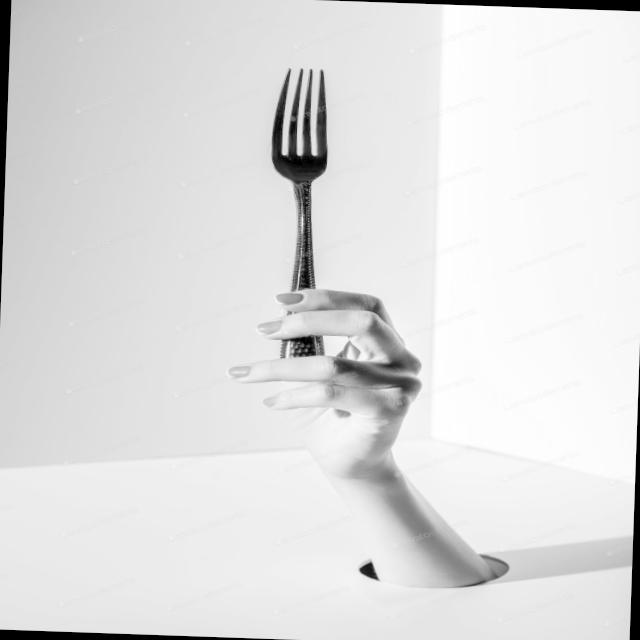fork: (260, 65, 335, 380)
